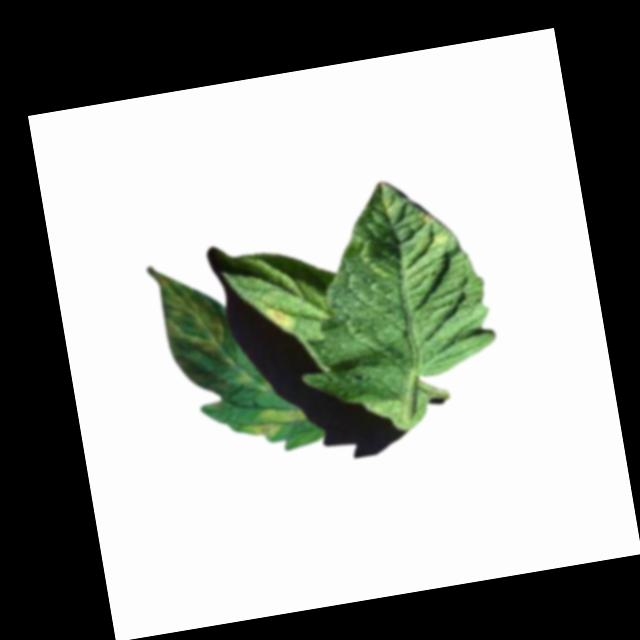Leaf_Mold: (144, 253, 229, 363), (236, 402, 311, 443), (417, 205, 453, 255), (260, 298, 302, 333)
